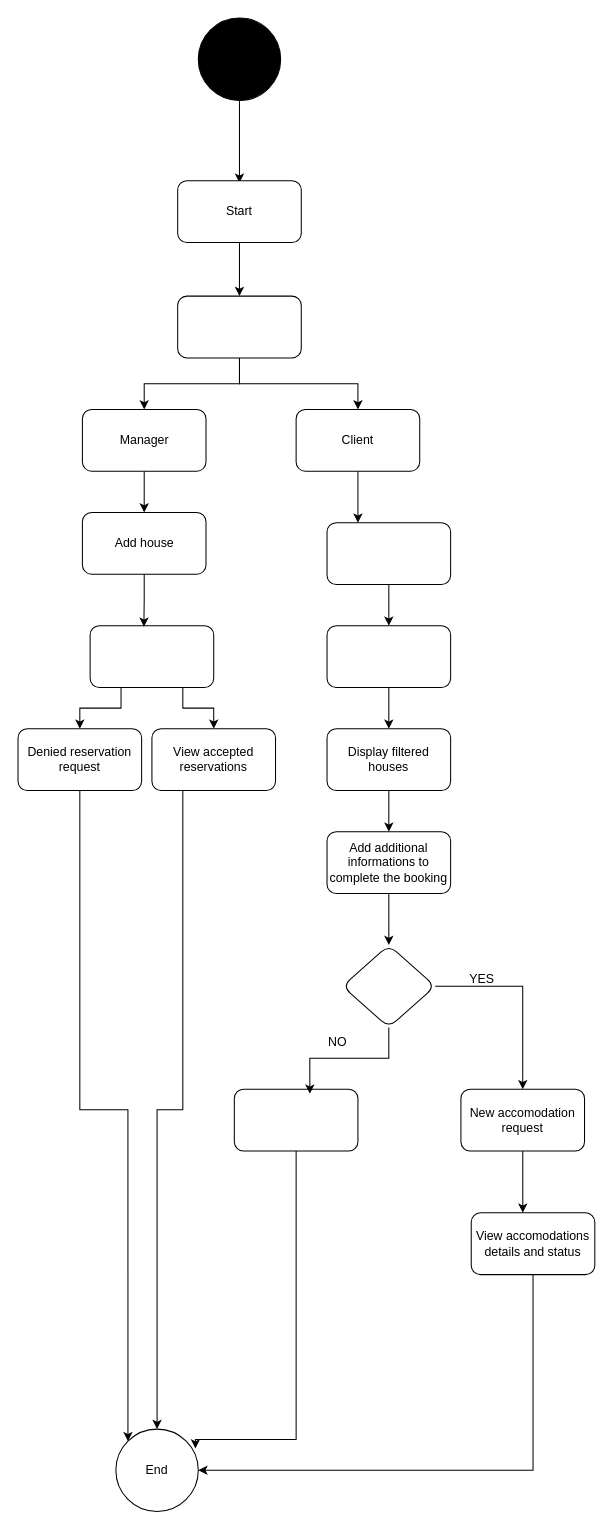
The diagram is 613 pixels wide and 1530 high, and some of its shapes have lost their labels. Here are the shapes that lost their labels. From the top down, the box of each, then its label:
(177, 295, 301, 358): Login
(326, 522, 451, 585): Display all houses
(89, 625, 214, 688): Reservation management
(326, 625, 451, 688): Filter house by city, period and no. people
(341, 944, 435, 1027): Confirm the request
(233, 1088, 358, 1151): Delete request
